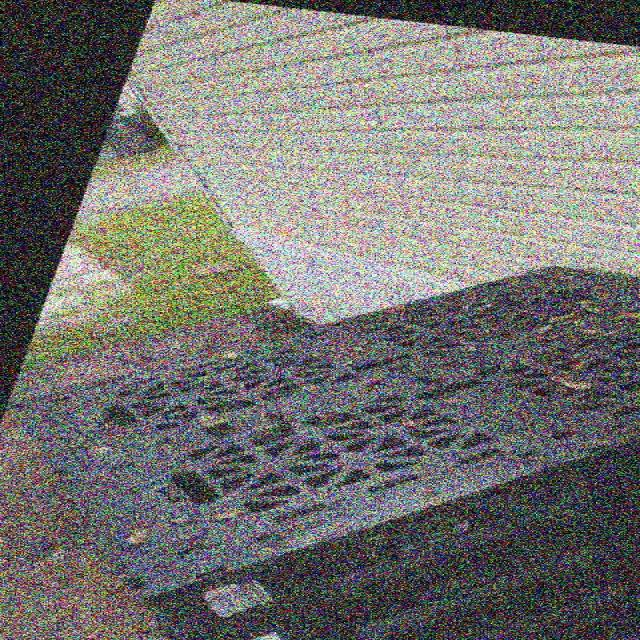igps: (22, 261, 640, 626), (184, 512, 640, 640)
